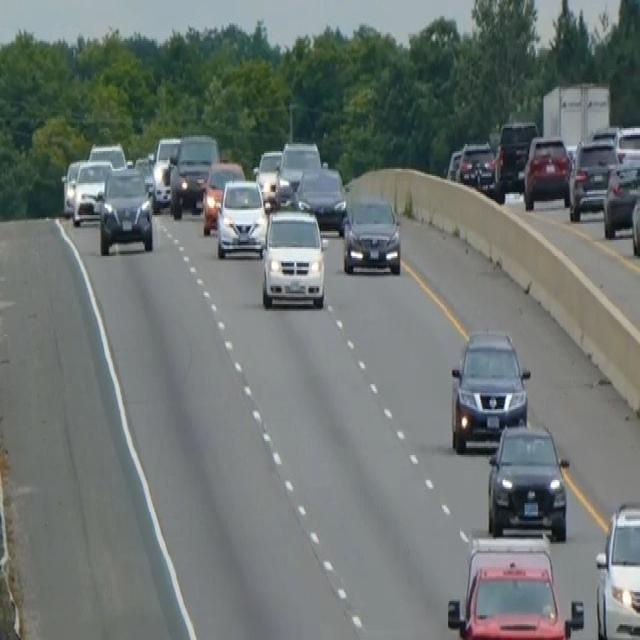car: (446, 532, 583, 638), (449, 326, 530, 452), (486, 422, 570, 540), (594, 500, 639, 638), (97, 164, 154, 254), (342, 194, 402, 276), (168, 132, 219, 218), (215, 176, 267, 260), (568, 135, 618, 221), (522, 133, 571, 210), (296, 165, 347, 233), (201, 158, 245, 235), (602, 156, 639, 238), (71, 156, 112, 226), (275, 139, 321, 199), (150, 135, 180, 206), (457, 139, 495, 190), (253, 148, 282, 205), (60, 157, 85, 215), (133, 153, 156, 206), (87, 140, 126, 169), (615, 122, 639, 164), (630, 181, 639, 256), (445, 146, 462, 181)
minivan: (257, 201, 328, 311)
